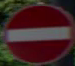No entry: (0, 4, 69, 55)
